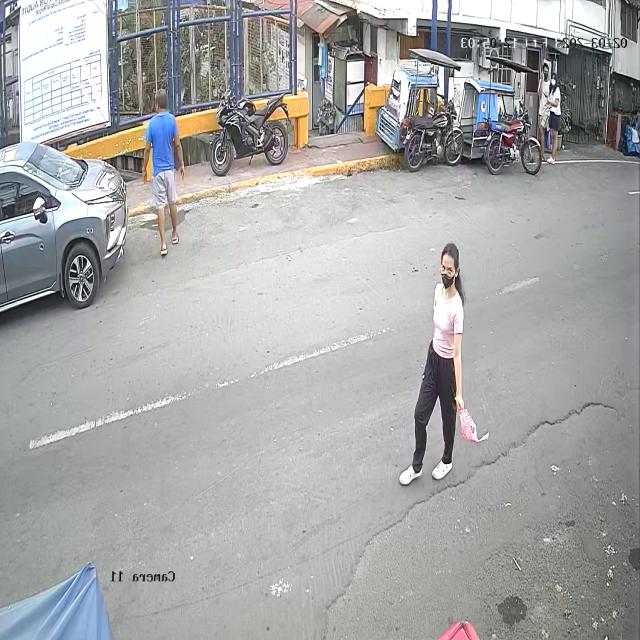human: (399, 243, 478, 484)
trash: (459, 402, 492, 456)
